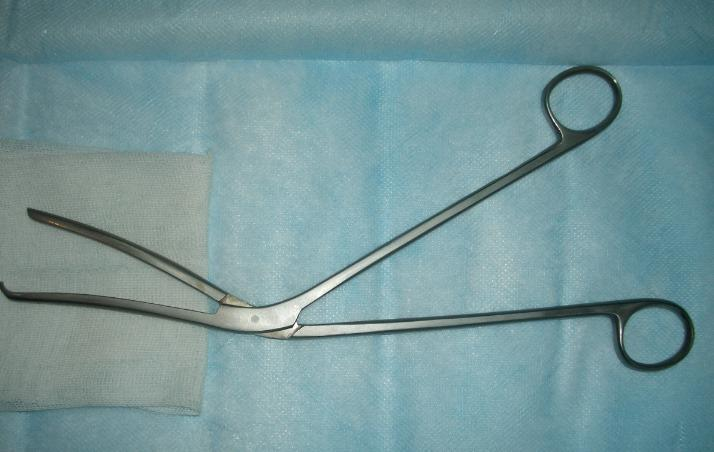Cheatle Forceps: (5, 66, 706, 388)
